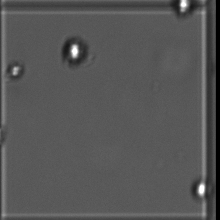Living Cell: (58, 32, 95, 69), (169, 1, 199, 30), (2, 58, 29, 85), (193, 179, 211, 200)
